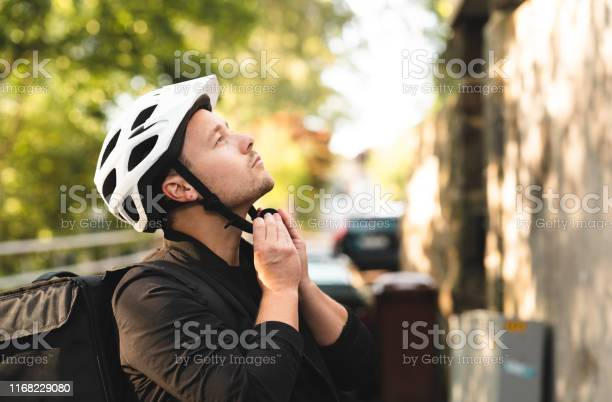helmet: (93, 73, 275, 235)
